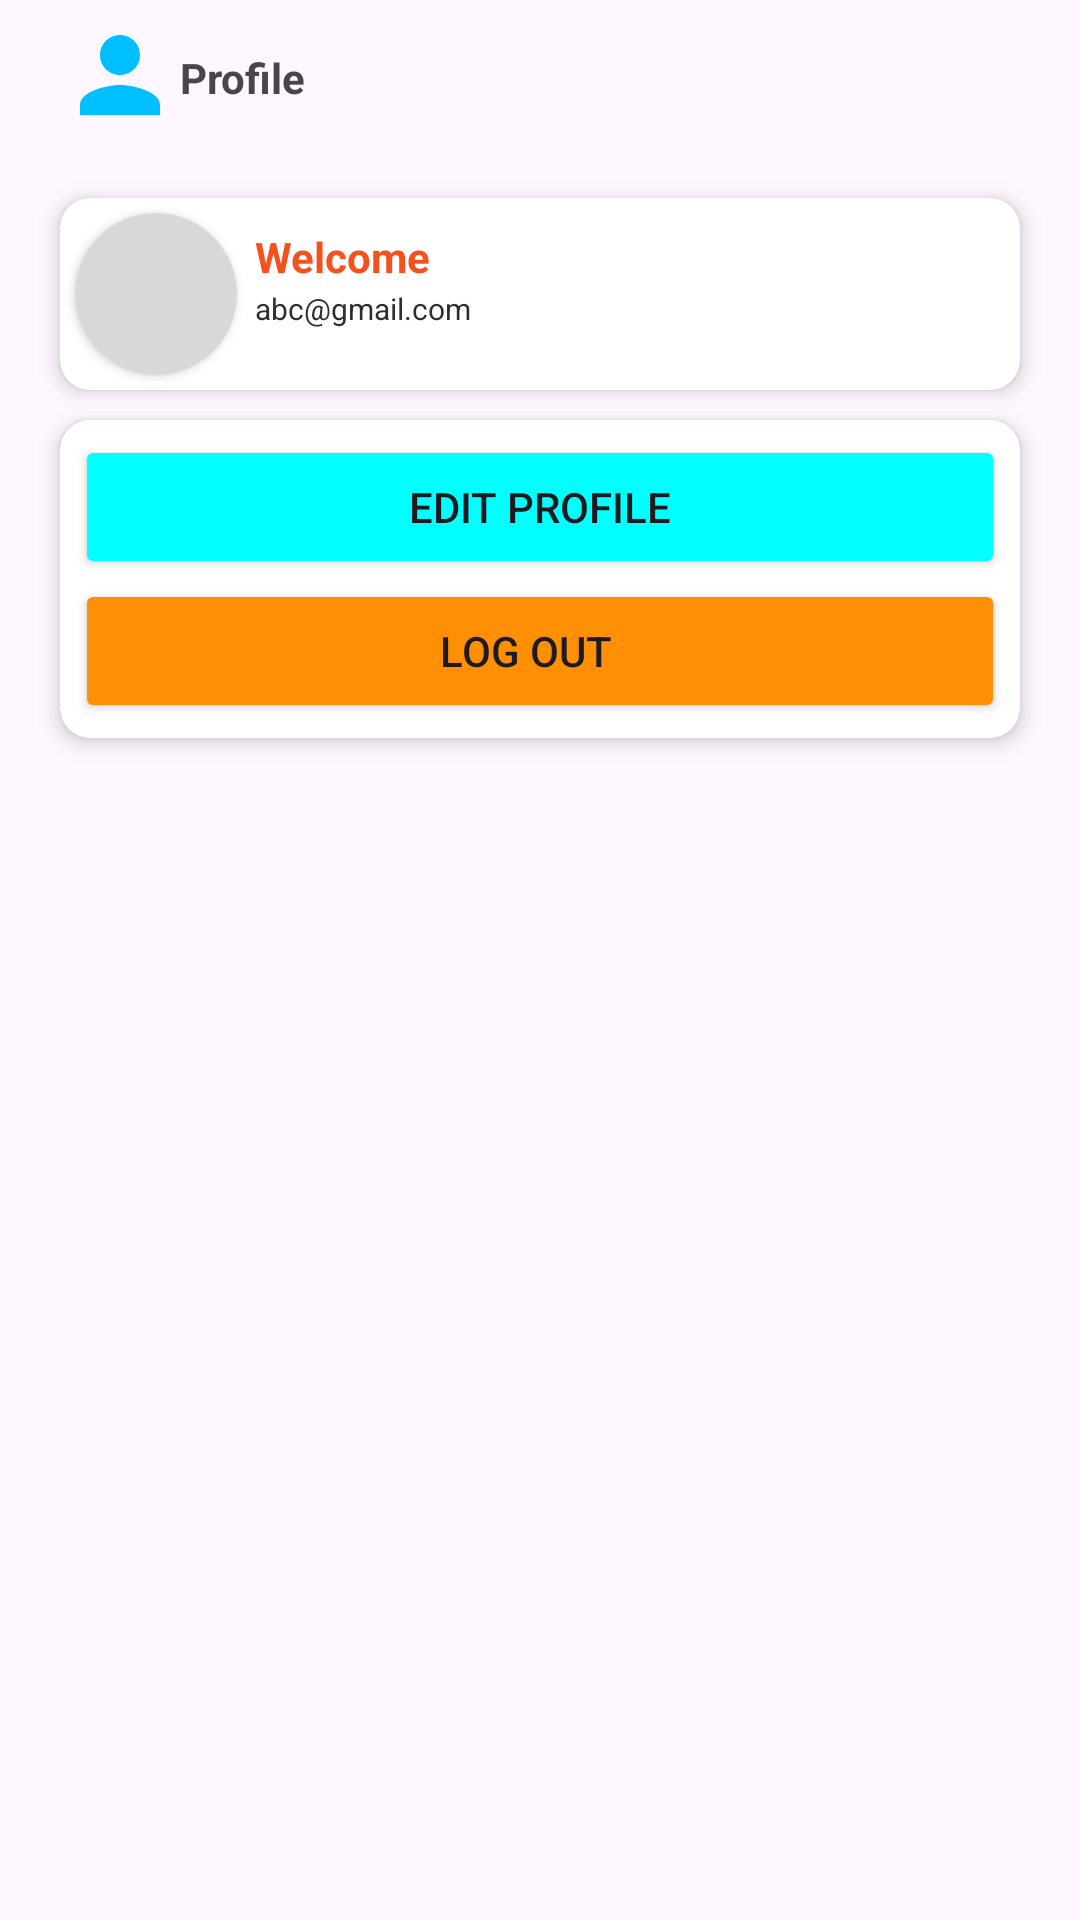

Icon bounding boxes for this 1080px×1920px phone screenshot, format (x1, y1, x2, y2):
person: (80, 35, 160, 115)
